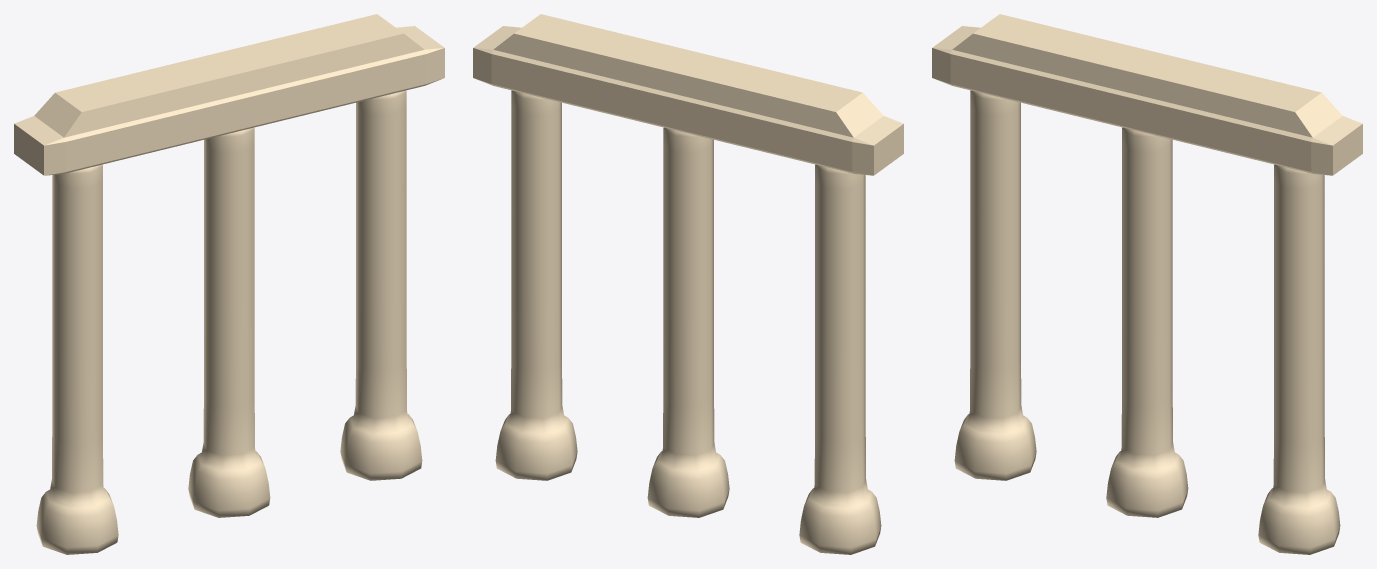
File: column3.fbx
The picture shows the model from 3 angles, left to right: view 1: azimuth 30°, elevation 25°; view 2: azimuth 150°, elevation 25°; view 3: azimuth 330°, elevation 25°; orthographic projection.
Visible parts, largest first — view 1: column03, Cup03; view 2: column03, Cup03; view 3: column03, Cup03.
Boxes of the visible parts, x1,y1,x2,y2 form: column03: (36, 90, 422, 554); Cup03: (14, 14, 444, 175); column03: (495, 90, 881, 554); Cup03: (473, 14, 903, 175); column03: (954, 90, 1340, 554); Cup03: (932, 14, 1362, 175).
Bounding box in the file's own units: 1391 × 1463 × 248.
